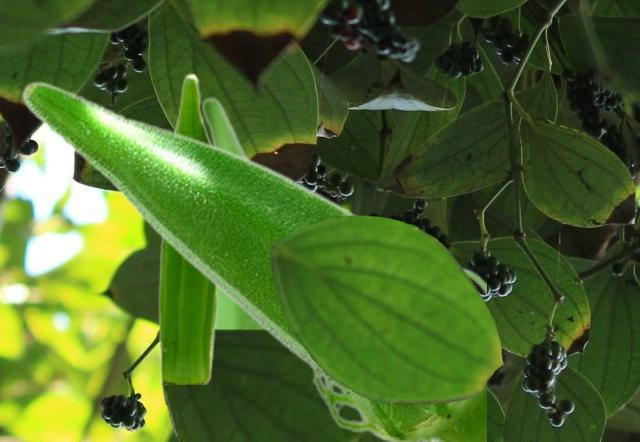okra: (20, 80, 485, 440), (158, 72, 220, 383), (201, 96, 260, 328)
